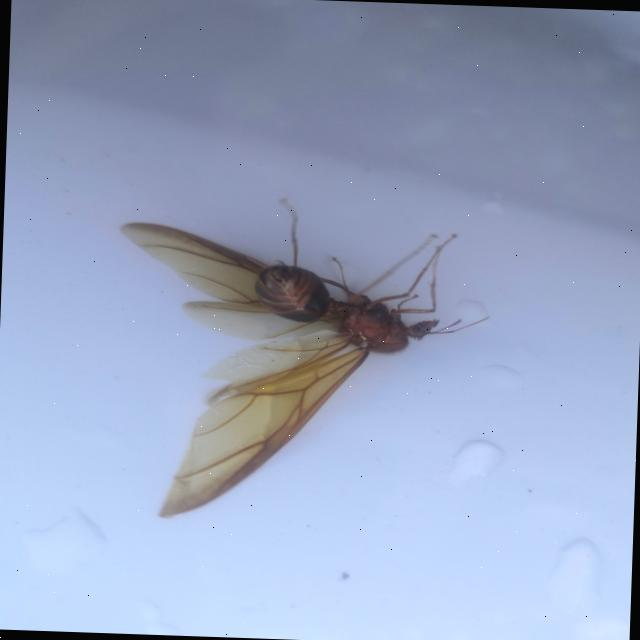Dead-Male-Alate: (110, 192, 493, 530)
